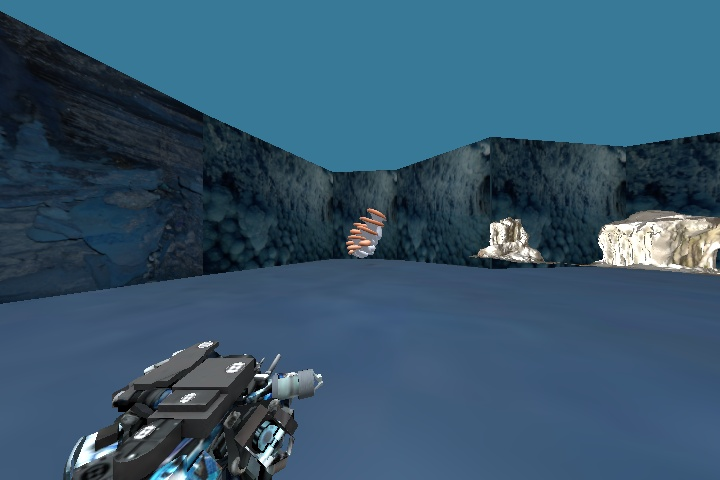formation: (591, 195, 720, 273), (468, 206, 547, 268)
mushrooms: (338, 198, 387, 263)
